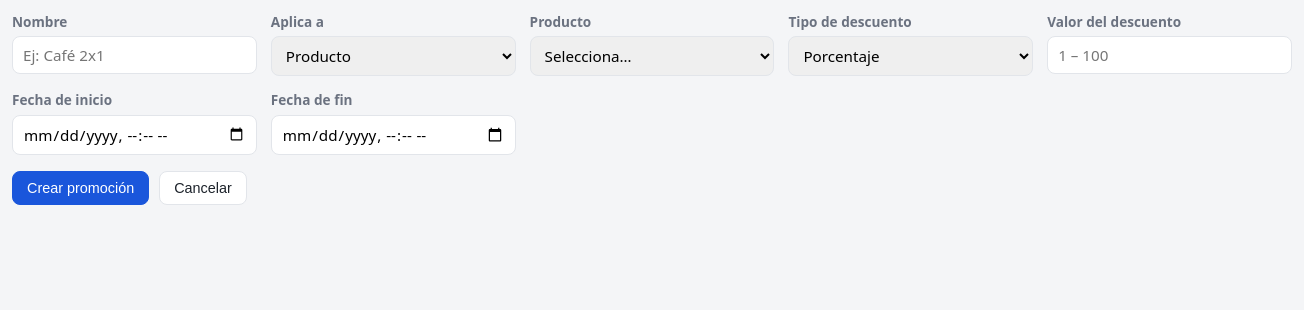
Test: PromotionForm › muestra errores de validación al enviar vacío
Click the button "Crear promoción" at (81, 188), box [12, 171, 149, 205]
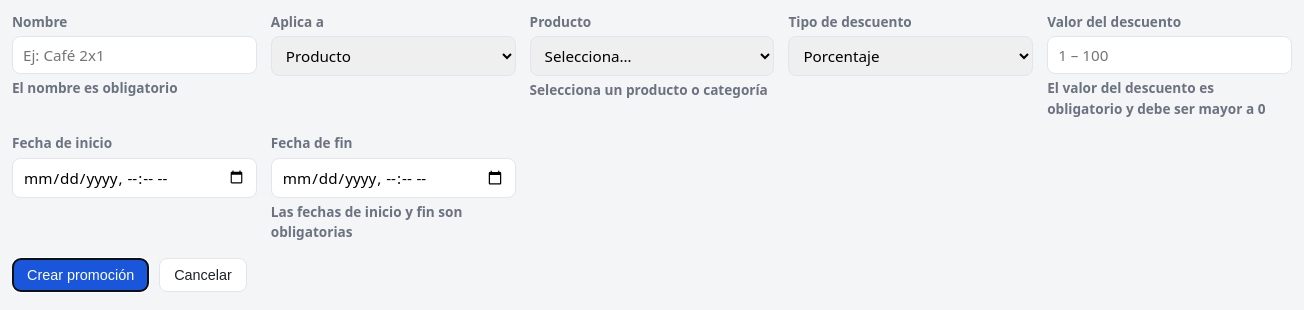
expect the text "El nombre es obligatorio" is shown: met, box [12, 78, 178, 97]
expect the text "Selecciona un producto o categoría" is shown: met, box [530, 80, 774, 101]
expect the text "El valor del descuento es obligatorio y debe ser mayor a 0" is shown: met, box [1047, 78, 1292, 119]
